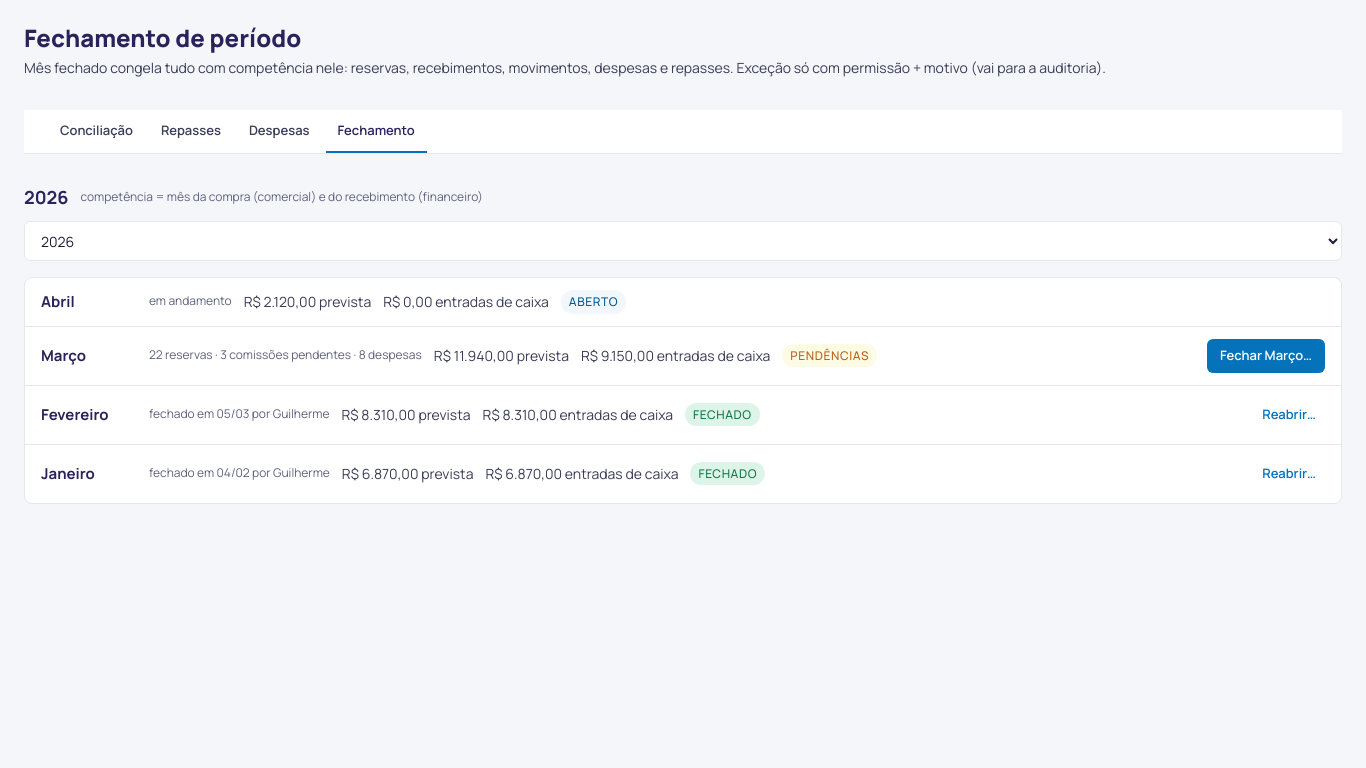
Scenario: erro ao carregar as pendentes mostra alerta com tentar de novo, sem abrir o modal
Expected: the text "Março" is shown, [41,345,86,366]
Click the button "Fechar Março…". click: (1266,356)
box: [1207,339,1325,373]
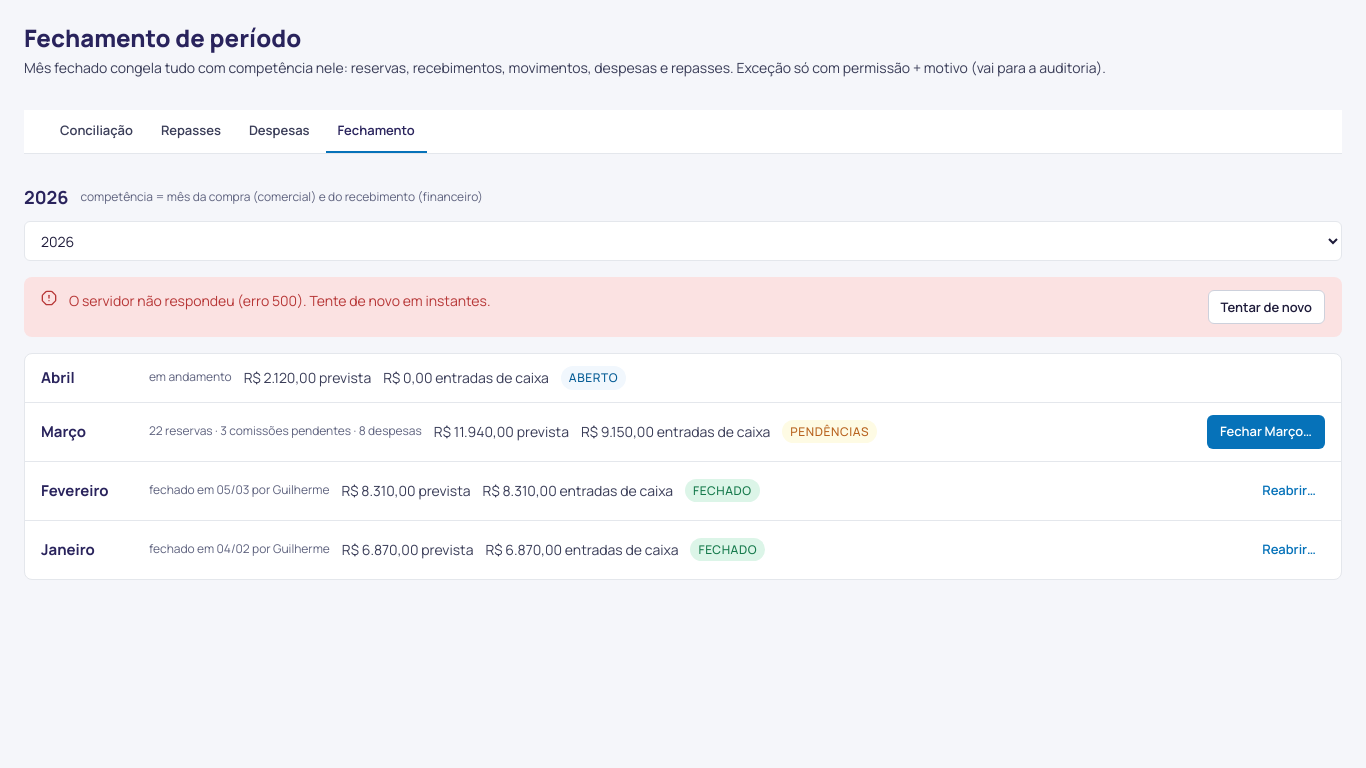
Expected: the text "O servidor não respondeu (erro 500). Tente de novo em instantes." is shown, [69,291,490,310]
Expected: the button "Tentar de novo" is shown, [1208,290,1325,324]
